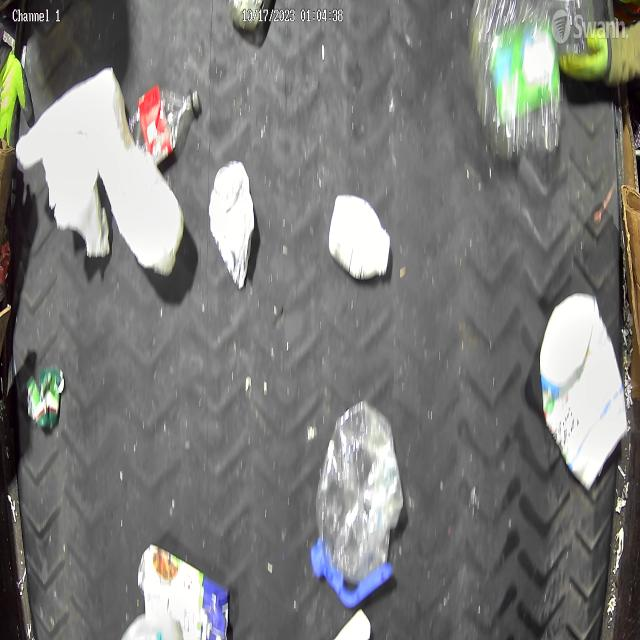plastic_bottle: (130, 87, 201, 167)
